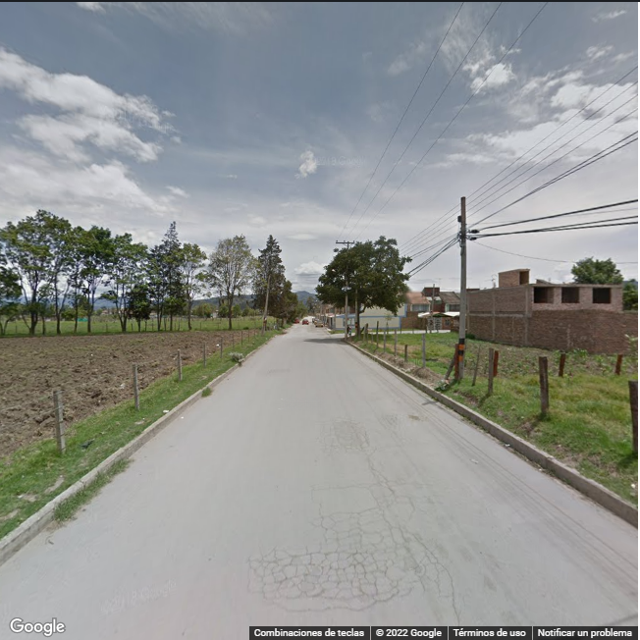D00: (436, 557, 459, 625), (364, 482, 388, 511)
D10: (310, 481, 368, 496)
D20: (254, 510, 401, 610)
